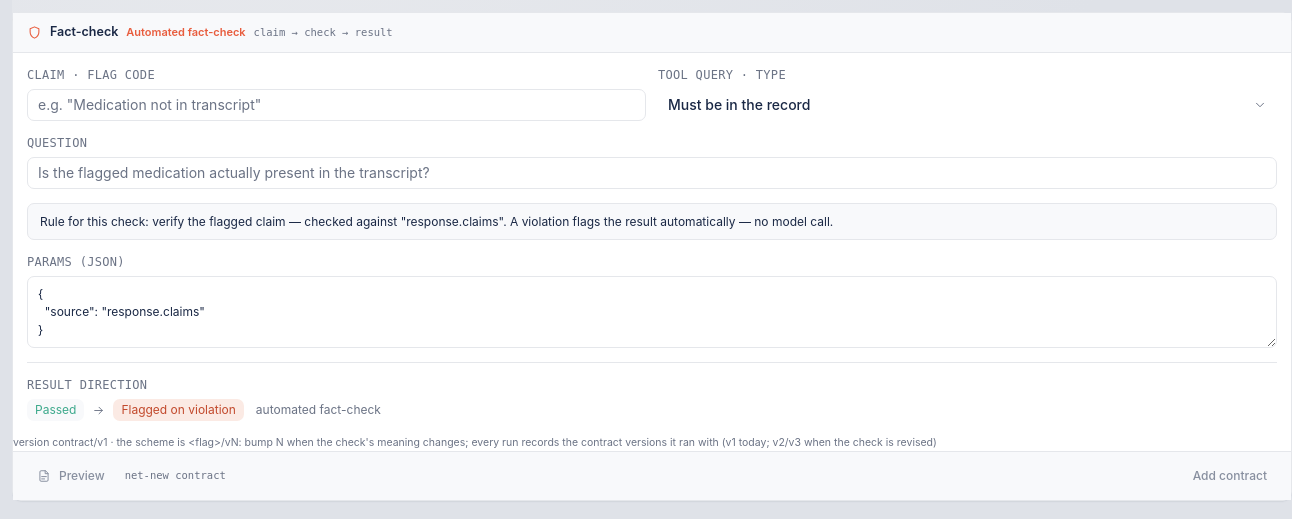
ContractBuilder (tool-contract_builder) › persists the contract via POST /v1/grounding-contract THEN returns it (honest tick)
Type "MEDICATION_NOT_IN_TRANSCRIPT" into the field named "flag code" at (336, 105), box [27,89,646,121]
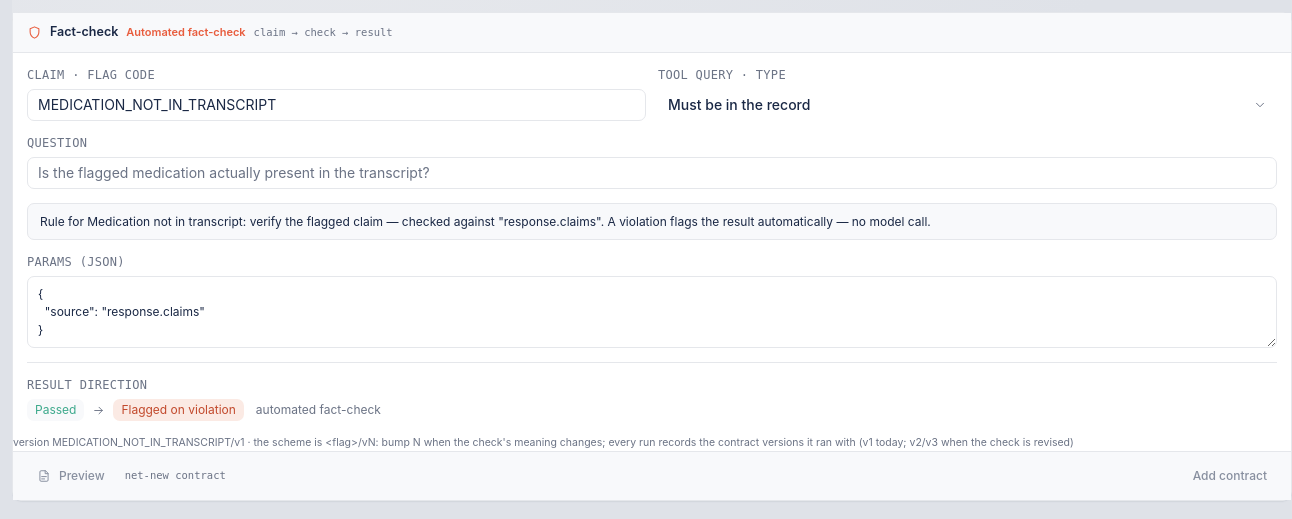
Replace the text in the field named "question" with "Is the med present in the transcript?" at (652, 173), box [27,157,1277,189]
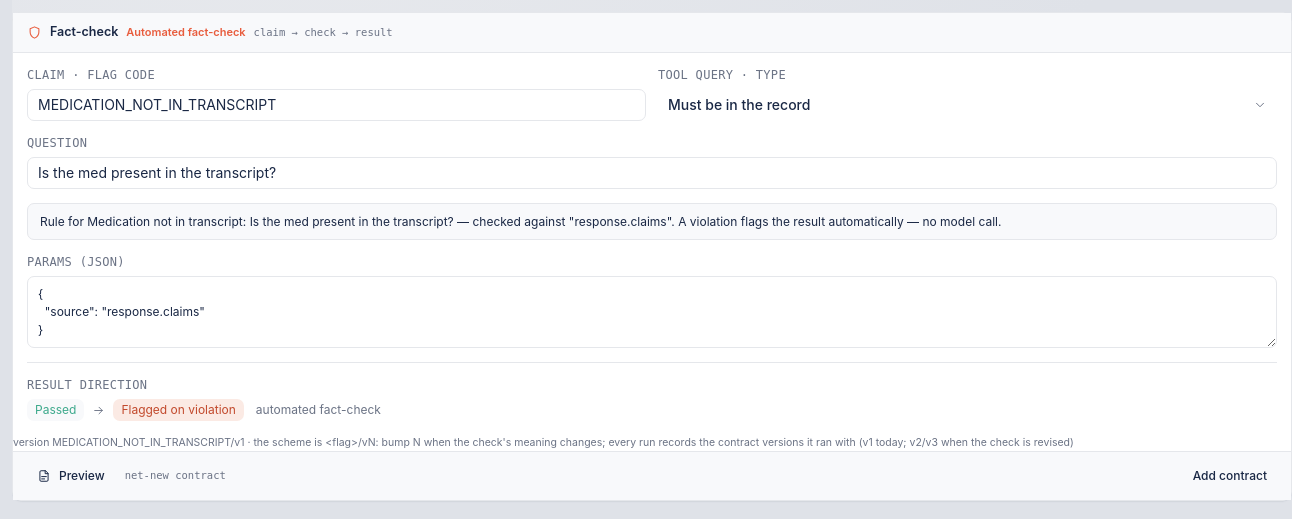
Click the button "Add contract" at (1230, 476), box [1183,462,1277,490]
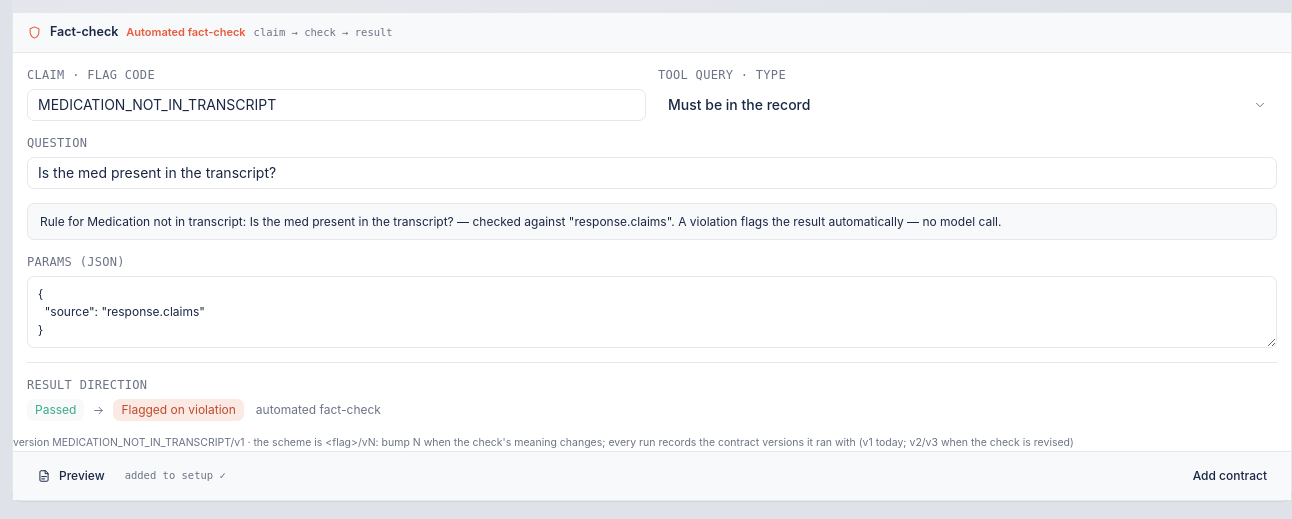
Expected: the text "added to setup ✓" is shown, [125,468,226,484]
